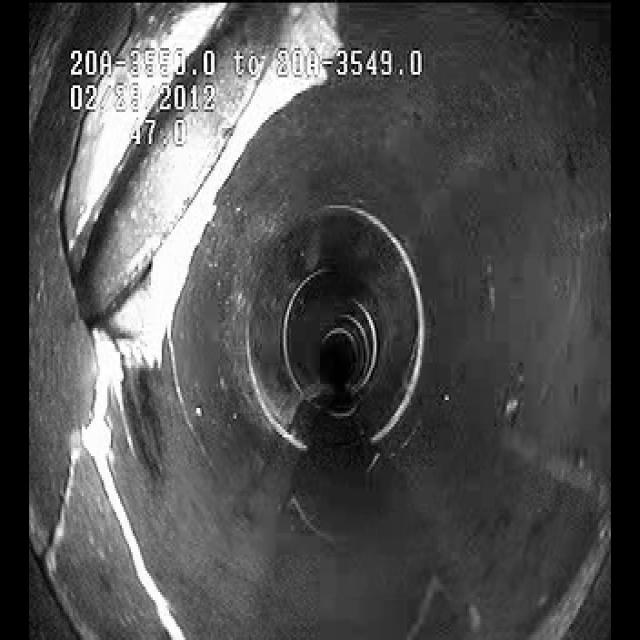Fracture: (41, 127, 200, 587)
